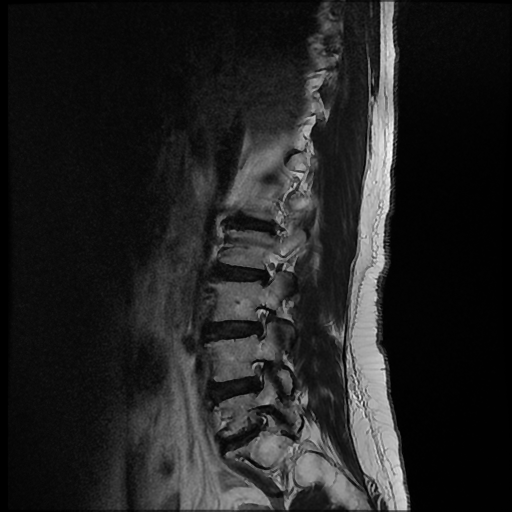RFS0: (243, 246, 282, 293)
RFS1: (240, 296, 282, 348), (236, 352, 278, 397)
